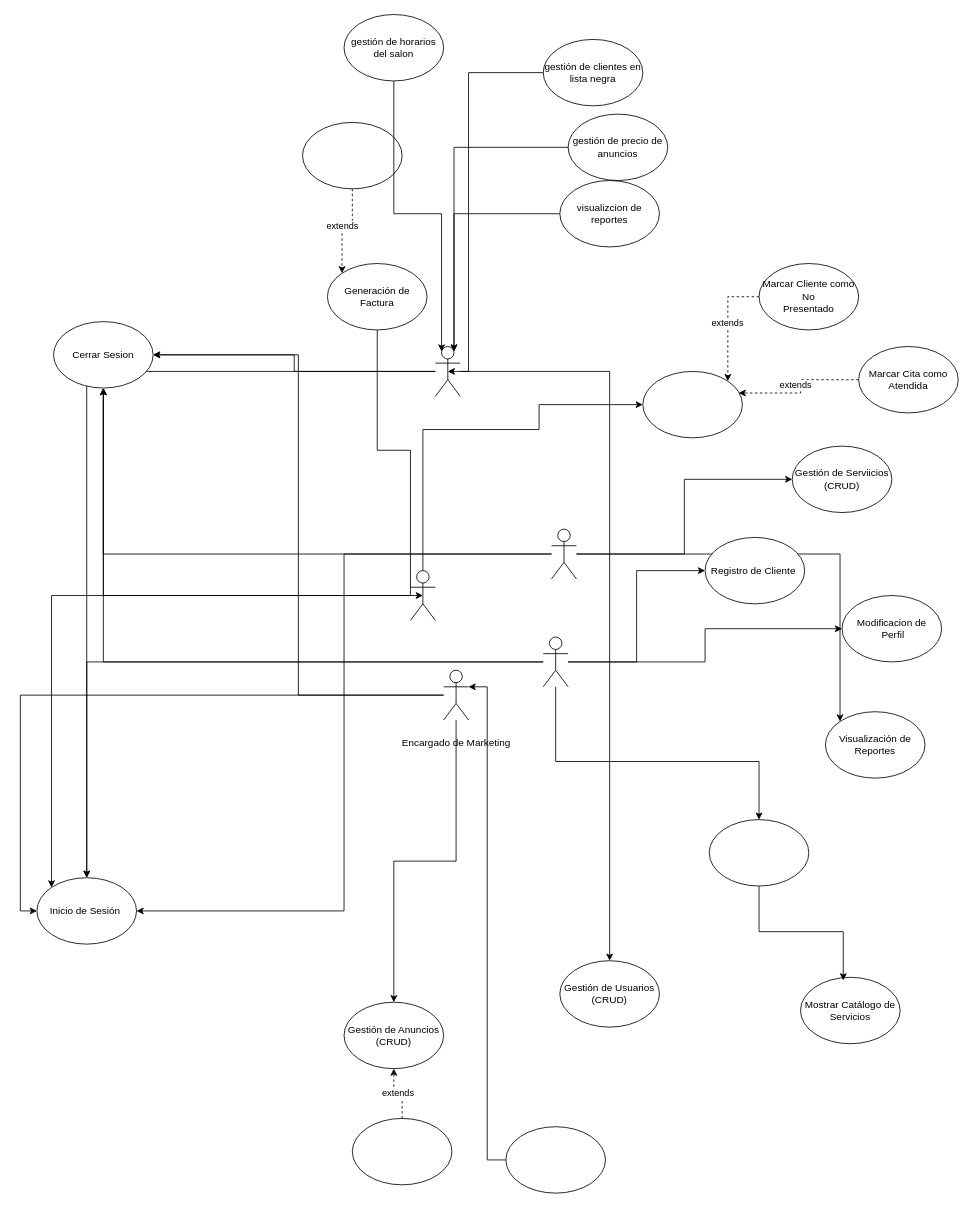
Some shapes in this 973 by 1208 pixel diagram are drawn without their labels. The box of each missing label's shape, as (x1, y1, x2, y2) in pixels:
Administrador: (435, 346, 460, 396)
cliente: (542, 636, 568, 687)
empleado: (410, 570, 435, 620)
Encargado de Servicios: (551, 528, 576, 579)
Gestión de Citas (CRUD): (708, 819, 809, 886)
Registro de pago: (302, 122, 402, 189)
Registro de pago anuncios: (352, 1118, 452, 1185)
Visualización de Citas Asignadas: (642, 371, 742, 438)
Visuallizacion de reportes: (505, 1126, 605, 1193)
